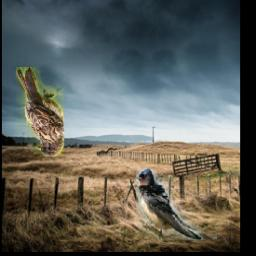Sparrow: (16, 68, 64, 158)
Swallow: (137, 169, 218, 241)
